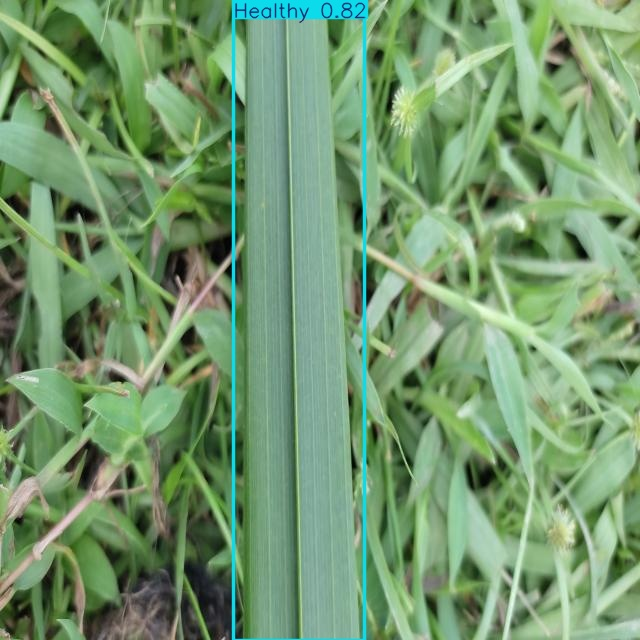Healthy: (233, 0, 364, 640)
